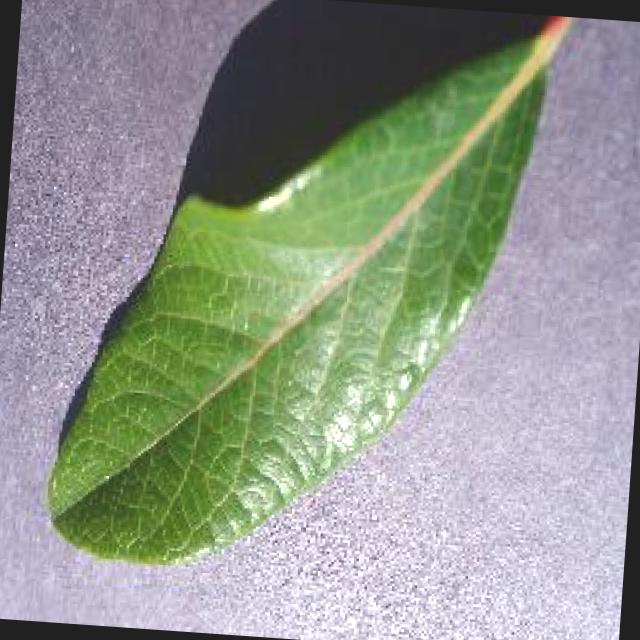healthy: (47, 19, 567, 563)
